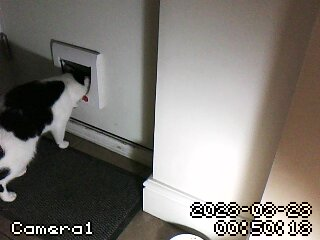bad: (1, 60, 94, 211)
